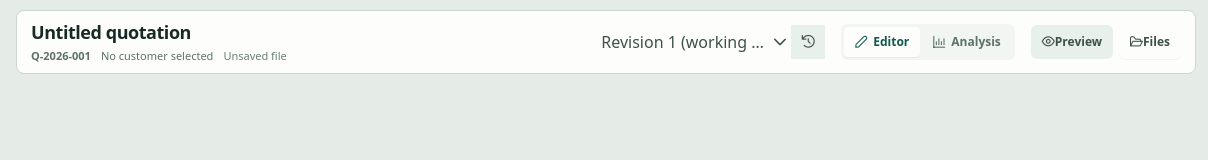
Test: QuotationCommandBar tooltips › keeps the viewport stable while showing en-US action tooltips
The image size is (1208, 160).
Hover over the button "Preview".
mouse_move(1072, 42)  # box x1=1031 y1=25 x2=1113 y2=59
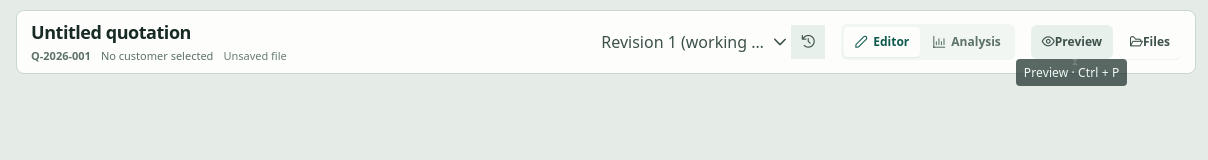
Check: the tooltip "Preview · Ctrl + P" is shown, box x1=1016 y1=59 x2=1127 y2=86
Hover over the heading "Untitled quotation".
mouse_move(111, 32)  # box x1=31 y1=20 x2=191 y2=44
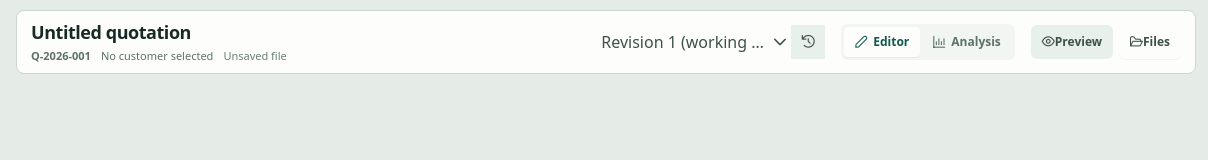
Check: the tooltip "Preview · Ctrl + P" is gone
